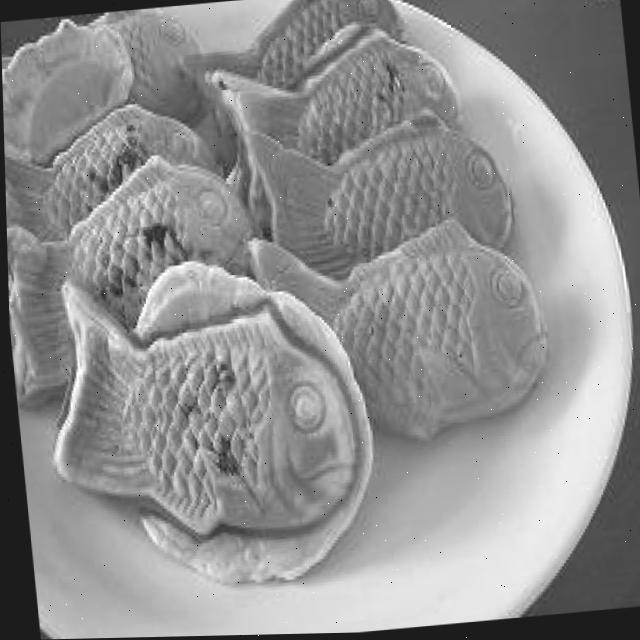熟制海鲜: (0, 0, 552, 585)
